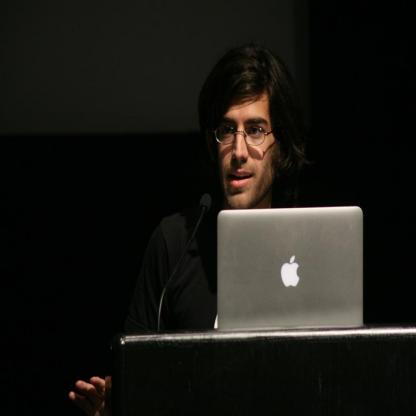board: (216, 205, 364, 336)
